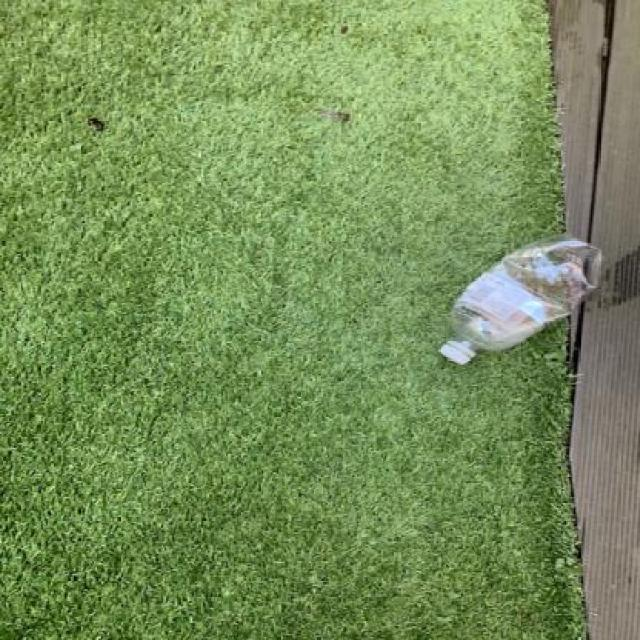trash: (432, 234, 608, 371)
